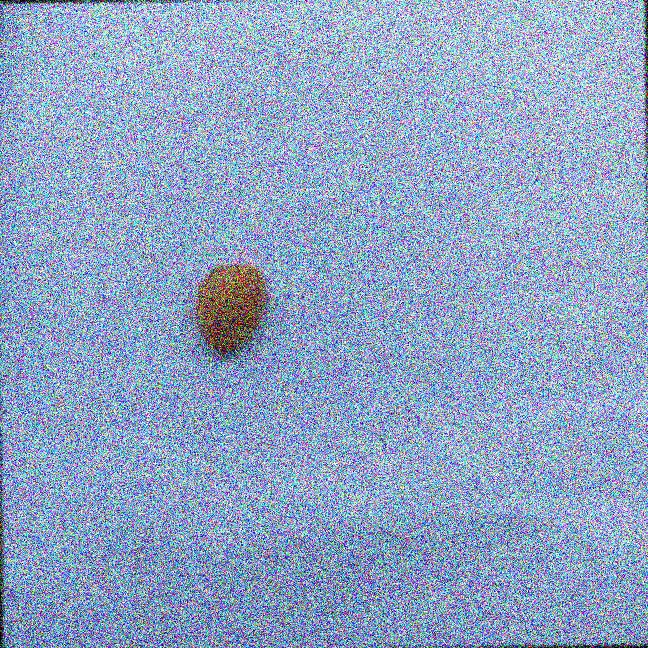grade2: (192, 261, 274, 359)
